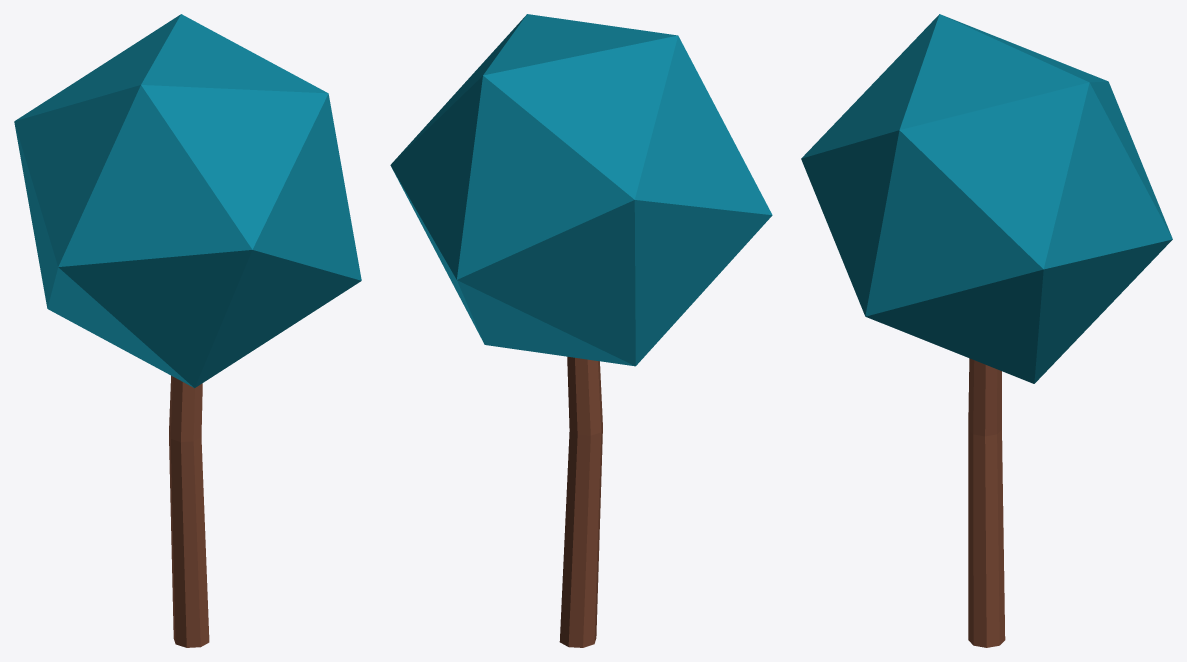
Rendered from Tree_40_summer_blue_mat.fbx.
3 views of the same model, side by side, from view 1: azimuth 30°, elevation 25°; view 2: azimuth 150°, elevation 25°; view 3: azimuth 270°, elevation 25° (orthographic). The views are drawn at different scales.
Parts seen in each view (by area): view 1: Tree_40_summer_blue_mat; view 2: Tree_40_summer_blue_mat; view 3: Tree_40_summer_blue_mat.
Boxes of the visible parts, bbox=[...] form: Tree_40_summer_blue_mat: bbox=[14, 14, 361, 647]; Tree_40_summer_blue_mat: bbox=[390, 14, 772, 647]; Tree_40_summer_blue_mat: bbox=[801, 14, 1172, 647].
Bounding box in the file's own units: 110 × 196 × 112.
